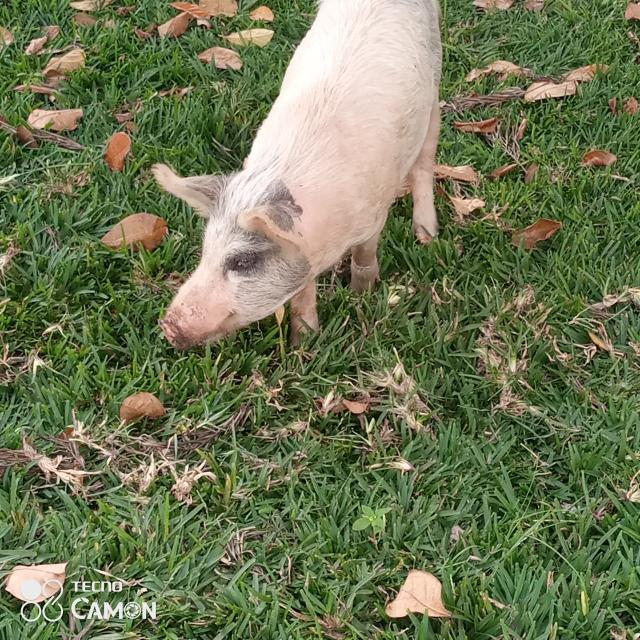pig: (102, 0, 543, 384)
